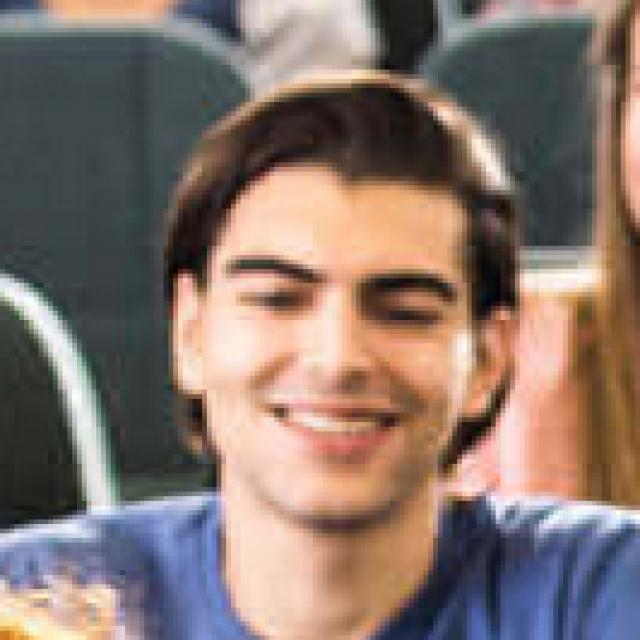Attentive: (203, 164, 473, 529)
